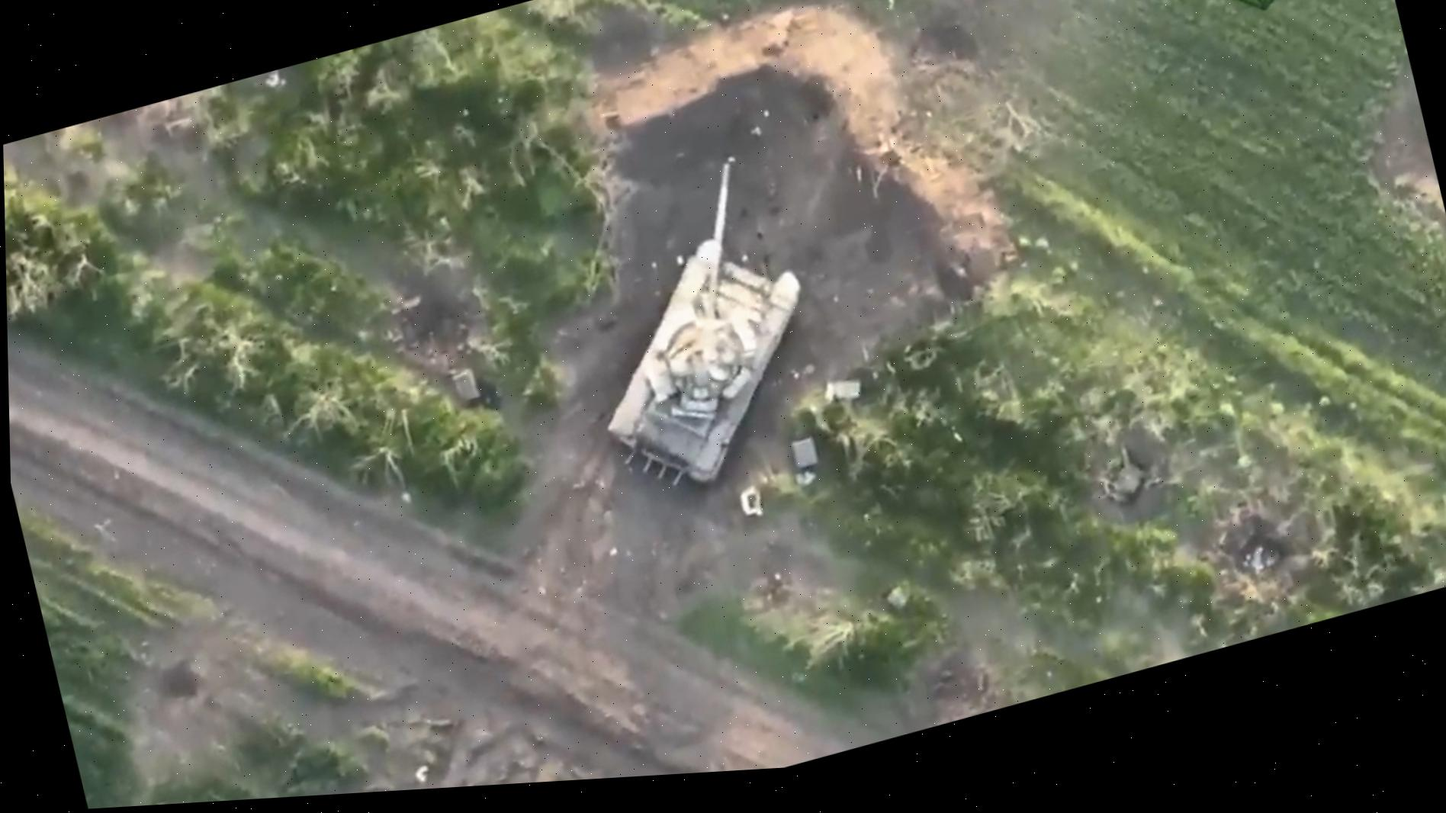tank: (547, 143, 856, 523)
